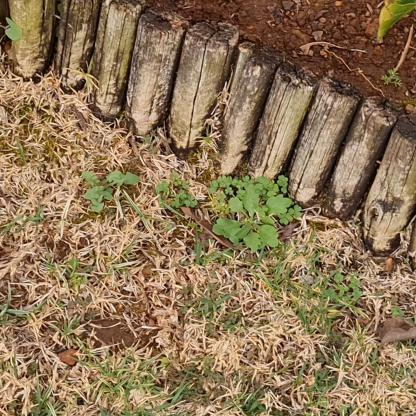Weeds: (212, 187, 291, 251), (81, 170, 139, 214)
